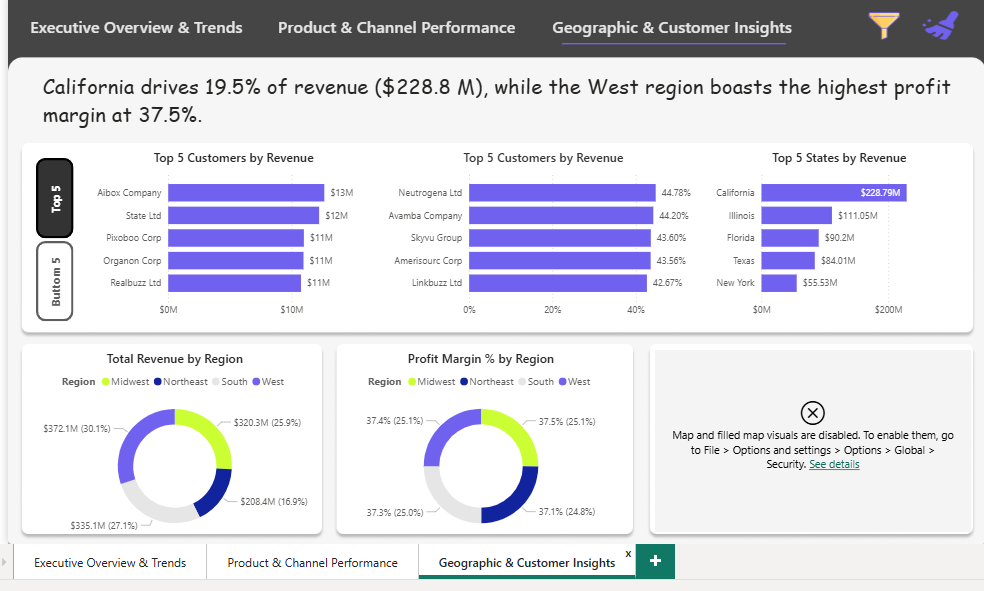

Layout of this report page (visuals, bound fields, positions):
{"tool":"powerbi","page":{"name":"Geographic & Customer Insights","canvas":[1280,720],"ordinal":2},"visuals":[{"type":"barChart","title":"Top 5 States by Revenue","fields":{"Category":["Sales_data.state_name"],"Y":["Measures_.Total Revenue"]},"box":[917,203.4,344.1,228.8],"z":0,"group":"g2"},{"type":"actionButton","box":[37,215,49,105],"z":0,"group":"g1"},{"type":"donutChart","title":"Total Revenue by Region","fields":{"Category":["Sales_data.us_region"],"Y":["Measures_.Total Revenue"]},"box":[20.3,466.1,394.9,254.2],"z":0},{"type":"barChart","title":"Top 5 Customers by Revenue","fields":{"Category":["Sales_data.customer_name"],"Y":["Measures_.Profit Margin %"]},"box":[486.5,203.4,430.5,228.8],"z":1000,"group":"g2"},{"type":"actionButton","box":[36.7,323.3,49,105],"z":1000,"group":"g1"},{"type":"donutChart","title":"Profit Margin % by Region","fields":{"Category":["Sales_data.us_region"],"Y":["Measures_.Profit Margin %"]},"box":[415.3,466.1,408.5,254.2],"z":1000},{"type":"actionButton","box":[337.2,14.1,342.3,55.1],"z":2000},{"type":"barChart","title":"Top 5 Customers by Revenue","fields":{"Category":["Sales_data.customer_name"],"Y":["Measures_.Total Revenue"]},"box":[105.1,203.4,381.4,228.8],"z":2000,"group":"g2"},{"type":"actionButton","box":[9,14.1,317.9,55.1],"z":3000},{"type":"actionButton","box":[702.6,14.1,333.3,55.1],"z":4000},{"type":"group","id":"g1","title":"top 5 button","box":[36.7,215,48.3,213.3],"z":6000},{"type":"map","fields":{"Category":["Sales_data.state"],"Size":["Measures_.Total Profit"]},"box":[846.9,465.7,413.8,237.7],"z":7000},{"type":"group","id":"g2","title":"top 5","box":[105.1,203.4,1155.9,228.8],"z":9000},{"type":"textbox","title":"Top Text","box":[40,96.2,1222.5,120],"z":11000},{"type":"actionButton","box":[1188,14,70,55],"z":12000},{"type":"actionButton","box":[1120,21,53,42],"z":13000}]}

Visuals, with their boxes on the page's 1280x720 design canvas (x1, y1, x2, y2). These are canvas units, not pixel positions in the 984x591 screenshot, which may show the page scaled, cropped or inside an application window:
"Top 5 States by Revenue" barChart: pyautogui.locateOnScreen(917, 203, 1261, 432)
actionButton: pyautogui.locateOnScreen(37, 215, 86, 320)
"Total Revenue by Region" donutChart: pyautogui.locateOnScreen(20, 466, 415, 720)
"Top 5 Customers by Revenue" barChart: pyautogui.locateOnScreen(486, 203, 917, 432)
actionButton: pyautogui.locateOnScreen(37, 323, 86, 428)
"Profit Margin % by Region" donutChart: pyautogui.locateOnScreen(415, 466, 824, 720)
actionButton: pyautogui.locateOnScreen(337, 14, 680, 69)
"Top 5 Customers by Revenue" barChart: pyautogui.locateOnScreen(105, 203, 486, 432)
actionButton: pyautogui.locateOnScreen(9, 14, 327, 69)
actionButton: pyautogui.locateOnScreen(703, 14, 1036, 69)
"top 5 button" group: pyautogui.locateOnScreen(37, 215, 85, 428)
map - Sales_data.state x Measures_.Total Profit: pyautogui.locateOnScreen(847, 466, 1261, 703)
"top 5" group: pyautogui.locateOnScreen(105, 203, 1261, 432)
"Top Text" textbox: pyautogui.locateOnScreen(40, 96, 1262, 216)
actionButton: pyautogui.locateOnScreen(1188, 14, 1258, 69)
actionButton: pyautogui.locateOnScreen(1120, 21, 1173, 63)
